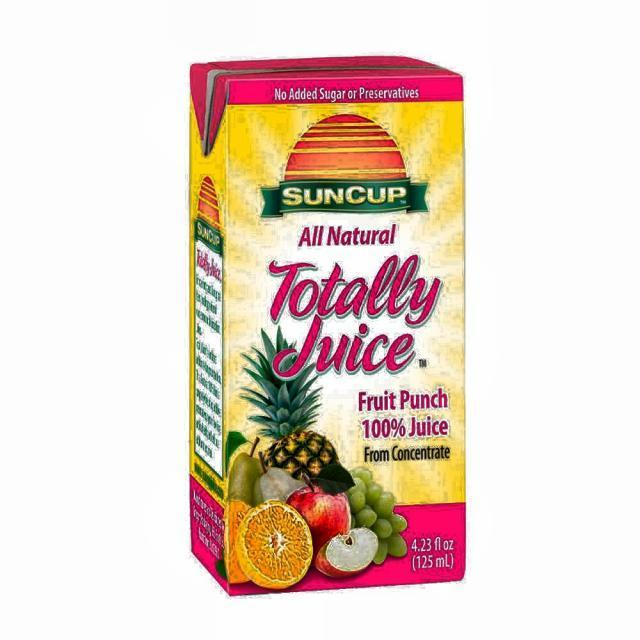cardboard: (188, 55, 467, 595)
